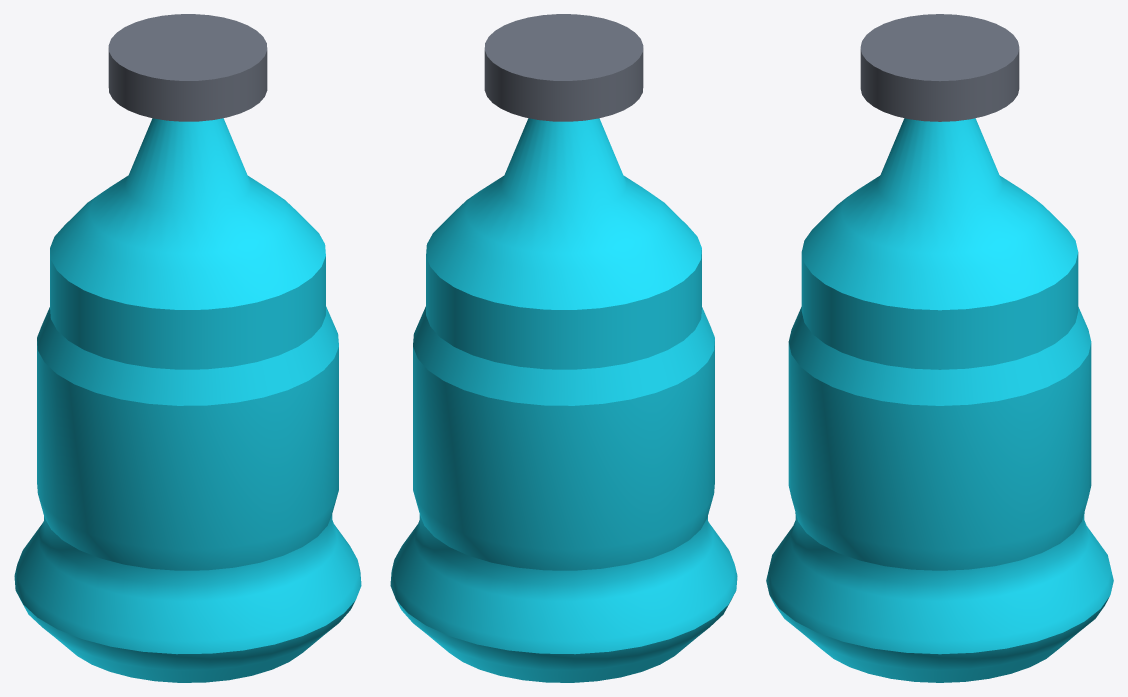
The model's file is bottle29.glb.
The picture shows the model from 3 angles, left to right: view 1: azimuth 30°, elevation 25°; view 2: azimuth 150°, elevation 25°; view 3: azimuth 270°, elevation 25°; orthographic projection.
Visible parts, largest first — view 1: Bottle29; view 2: Bottle29; view 3: Bottle29.
Part boxes in pixels (left/top/right/bottom): Bottle29: left=14, top=14, right=361, bottom=682; Bottle29: left=390, top=14, right=737, bottom=682; Bottle29: left=766, top=14, right=1113, bottom=682.
Size of the model in its own units: 0.3013 by 0.5558 by 0.3013.
